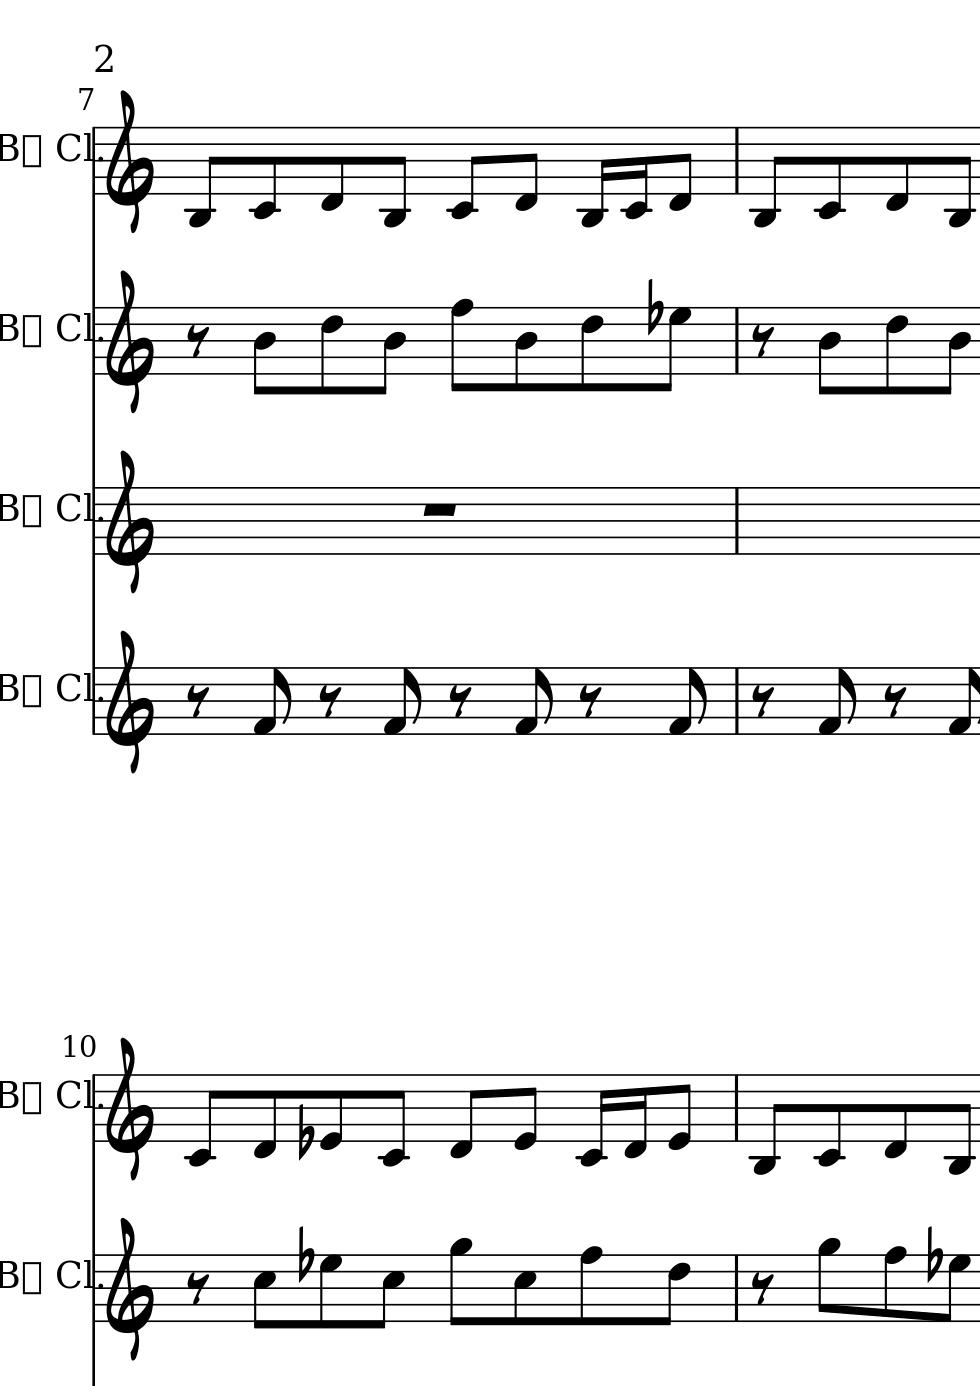0: (78, 1031, 97, 1062)
1: (62, 1031, 77, 1062)
16_-1: (622, 1072, 648, 1161)
16_-2: (576, 1074, 609, 1170), (622, 126, 649, 223)
16_-3: (577, 125, 611, 231)
2: (91, 42, 115, 73)
7: (77, 85, 95, 113)
8_-1: (447, 1073, 480, 1161), (317, 124, 346, 214), (880, 1073, 909, 1162), (250, 1072, 278, 1162), (512, 125, 539, 215), (883, 125, 910, 214), (667, 125, 693, 214)
8_-2: (447, 125, 484, 222), (182, 1072, 220, 1168), (247, 126, 281, 223), (378, 1073, 412, 1168), (812, 1074, 844, 1169), (813, 126, 844, 222)
8_-3: (183, 125, 224, 230), (377, 125, 412, 231), (748, 126, 783, 230), (748, 1074, 783, 1177), (943, 125, 972, 229), (943, 1073, 972, 1176)
8_0: (511, 1073, 539, 1153), (666, 1072, 693, 1153), (318, 1073, 344, 1152)
8_1: (512, 666, 556, 738), (381, 667, 424, 738), (666, 666, 708, 738), (816, 667, 858, 738), (251, 666, 293, 738), (946, 666, 977, 738)
8_4: (373, 305, 407, 397), (939, 305, 972, 394), (251, 306, 278, 399), (816, 305, 842, 397), (513, 305, 538, 394)
8_5: (371, 1253, 405, 1331), (251, 1253, 277, 1331), (511, 1253, 537, 1327)
8_6: (658, 1253, 692, 1328), (883, 304, 910, 398), (578, 305, 603, 394), (321, 308, 342, 396)
8_7: (657, 305, 692, 394), (938, 1252, 969, 1323), (316, 1252, 342, 1330)
8_8: (448, 298, 475, 394), (576, 1245, 601, 1328), (881, 1245, 907, 1324)
8_9: (815, 1236, 840, 1324), (448, 1236, 472, 1327)
Cl: (56, 487, 93, 525), (55, 308, 91, 345), (54, 130, 91, 165), (56, 668, 92, 703), (55, 1077, 90, 1109), (55, 1258, 90, 1289)
Flat: (295, 1224, 314, 1286), (295, 1102, 314, 1163), (924, 1224, 942, 1285), (645, 276, 662, 336)
Gclef: (104, 269, 158, 418), (105, 450, 156, 600), (104, 87, 156, 234), (106, 630, 156, 777), (104, 1035, 154, 1181), (105, 1216, 155, 1361)
Rests1: (418, 498, 462, 520)
Rests4: (183, 323, 211, 357), (315, 683, 342, 717)
Rests8: (183, 1270, 210, 1306), (749, 324, 775, 359), (183, 683, 210, 718), (577, 683, 603, 718), (749, 683, 775, 718), (881, 683, 907, 719), (447, 683, 472, 718), (749, 1271, 774, 1306)
Single_barline: (727, 488, 750, 555), (729, 306, 750, 375), (727, 127, 746, 195), (728, 1256, 745, 1320), (87, 308, 102, 375), (87, 488, 102, 556), (729, 1075, 743, 1142), (88, 1255, 102, 1322), (88, 669, 102, 734), (88, 1074, 101, 1143), (87, 128, 100, 196)
